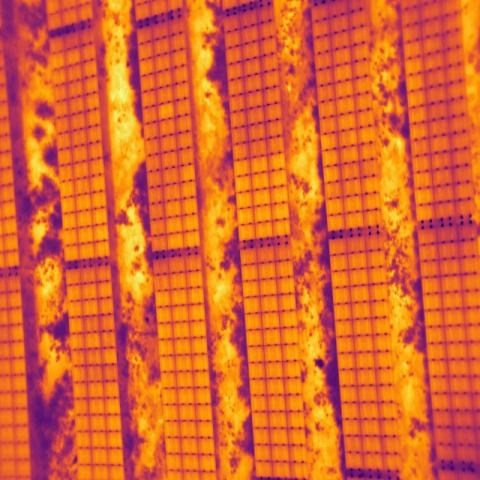fault: (158, 103, 176, 122)
